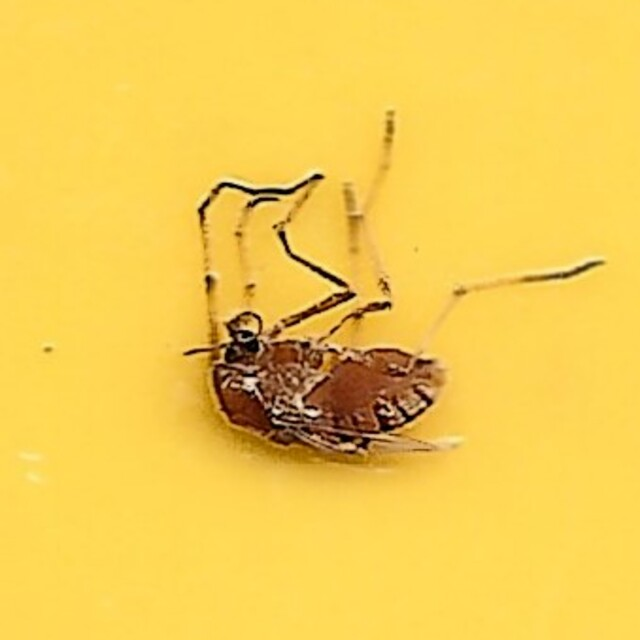Nematocera: (189, 168, 451, 472)
